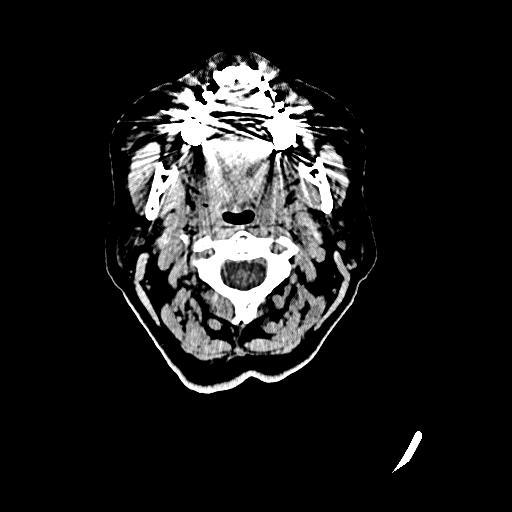Normal_Brain: (91, 46, 381, 404)
